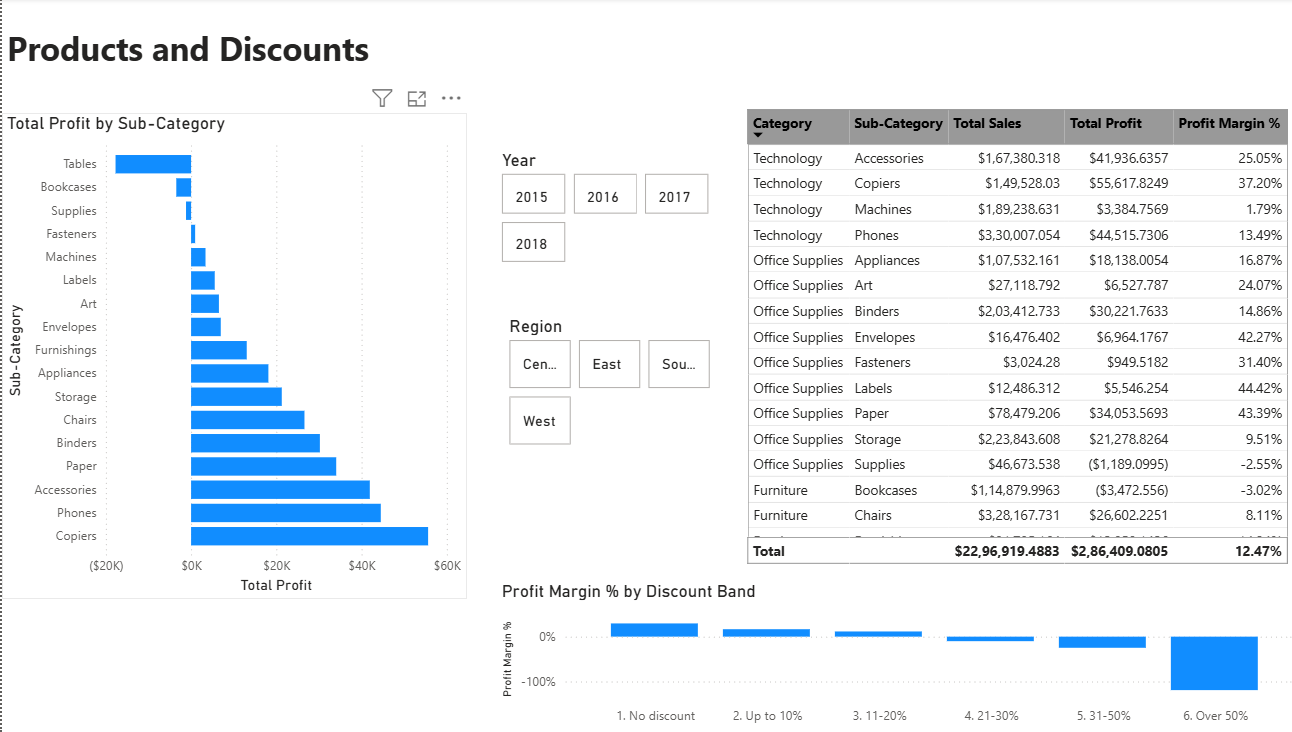

Layout of this report page (visuals, bound fields, positions):
{"tool":"powerbi","page":{"name":"Products and Discounts","canvas":[1280,720],"ordinal":1},"visuals":[{"type":"clusteredBarChart","fields":{"Category":["Orders.Sub-Category"],"Y":["Orders.Total Profit"]},"box":[0,112.3,454.3,475.3],"z":0},{"type":"clusteredColumnChart","fields":{"Category":["Orders.Discount Band"],"Y":["Orders.Profit Margin %"]},"box":[484.4,569.5,795.9,150.9],"z":1000},{"type":"tableEx","fields":{"Values":["Orders.Category","Orders.Sub-Category","Orders.Total Sales","Orders.Total Profit","Orders.Profit Margin %"]},"box":[722.2,103.7,558,454.3],"z":2000},{"type":"advancedSlicerVisual","fields":{"Values":["DimDate.Year"]},"box":[484.4,148.2,214.1,116.6],"z":3000},{"type":"advancedSlicerVisual","fields":{"Values":["Orders.Region"]},"box":[491.3,310.1,207.2,133.1],"z":4000},{"type":"textbox","box":[0,22.2,1280.2,64.2],"z":5000}]}

Visuals, with their boxes in screenshot pixels (x1, y1, x2, y2), scaled from the page's 1280x720 canvas onto the 1292x732 screenshot:
clusteredBarChart - Orders.Sub-Category x Orders.Total Profit: (0,114,459,597)
clusteredColumnChart - Orders.Discount Band x Orders.Profit Margin %: (489,579,1291,731)
tableEx - Orders.Category x Orders.Sub-Category: (729,105,1291,567)
advancedSlicerVisual - DimDate.Year: (489,151,705,269)
advancedSlicerVisual - Orders.Region: (496,315,705,451)
textbox: (0,23,1291,88)
